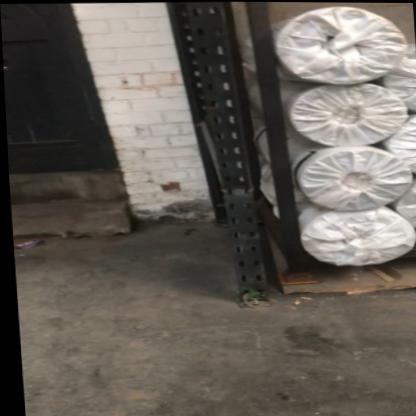vertical_damage: (207, 160, 268, 216)
